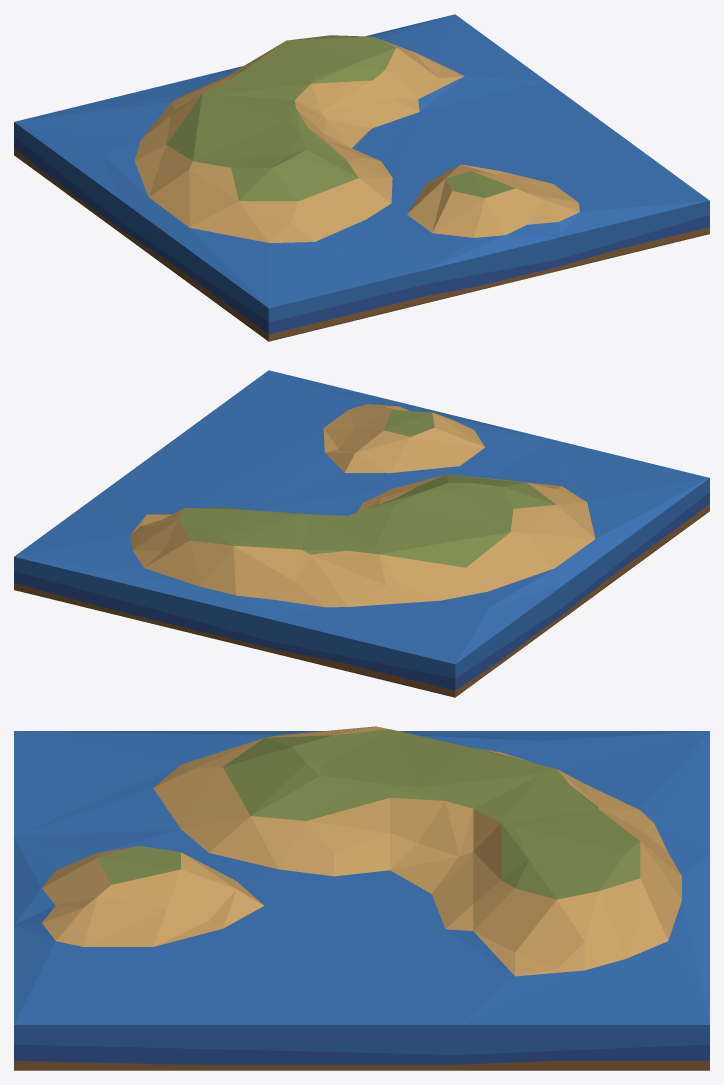
Rendered from SM_Tile_Cube_Island_03.glb.
3 renders of one model, top to bottom at view 1: azimuth 30°, elevation 25°; view 2: azimuth 150°, elevation 25°; view 3: azimuth 270°, elevation 25°, orthographic. The views are drawn at different scales.
Parts seen in each view (by area): view 1: SM_Tile_Cube_Island_03; view 2: SM_Tile_Cube_Island_03; view 3: SM_Tile_Cube_Island_03.
Boxes of the visible parts, x1=… form: SM_Tile_Cube_Island_03: x1=14, y1=14, x2=709, y2=341; SM_Tile_Cube_Island_03: x1=14, y1=370, x2=709, y2=697; SM_Tile_Cube_Island_03: x1=14, y1=726, x2=709, y2=1070.
Bounding box in the file's own units: 5 × 0.804 × 5.
Materials: 1 (1 with a texture image).
